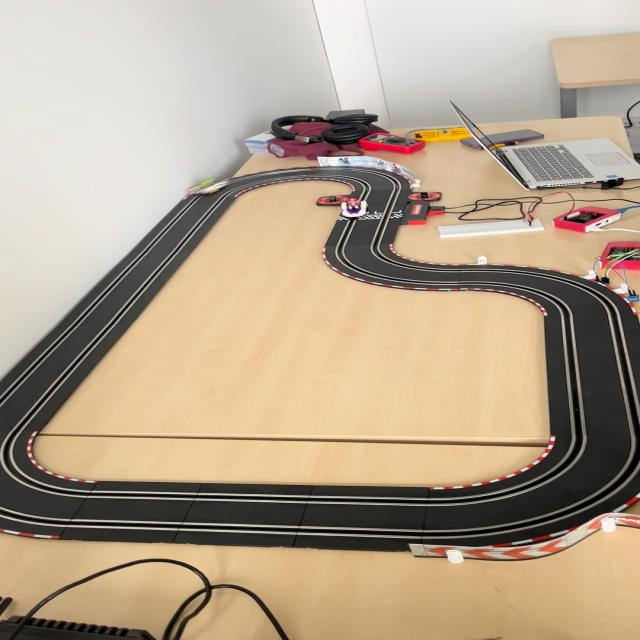mario: (339, 197, 370, 219)
yoshi: (188, 176, 233, 196)
